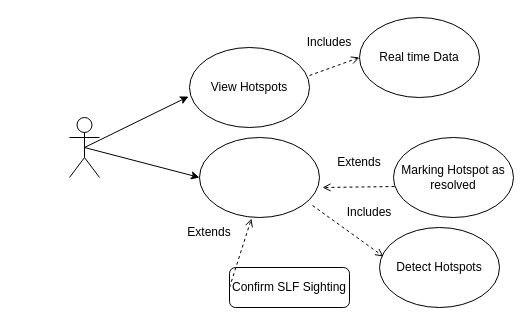
This 531x325 diagram has some shape labels left out. Each missing label, with the centre of its shape:
"Report SLF" belongs at point (259, 177).
"Residents and City offical" belongs at point (84, 147).
